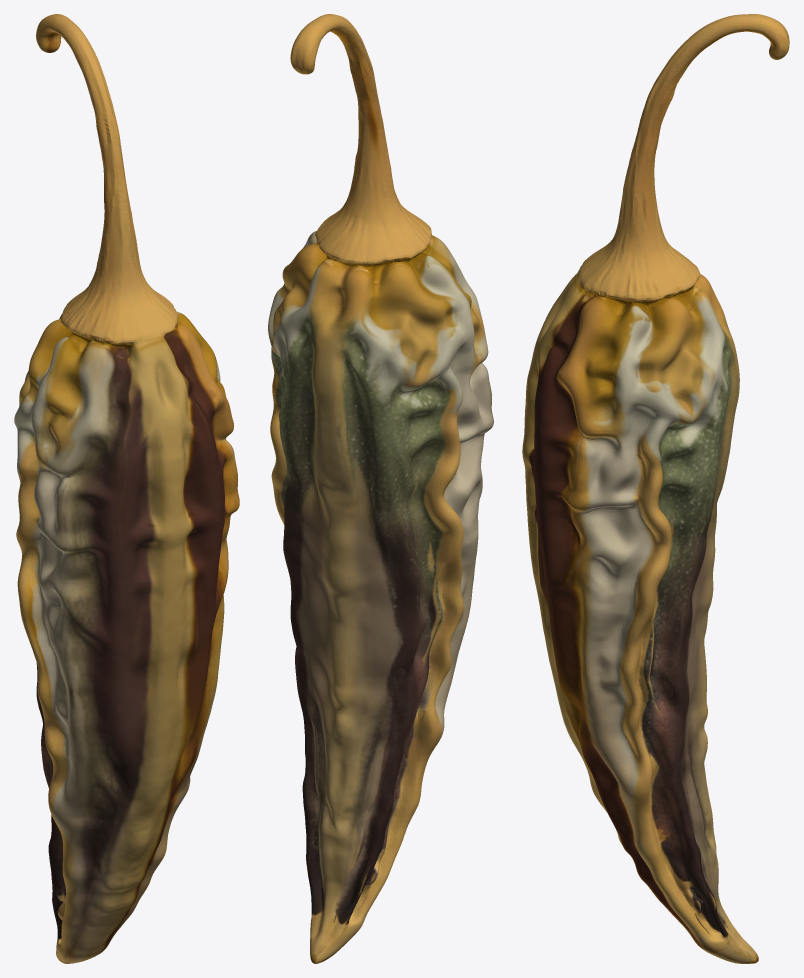
Rendered from kholaChilli.glb.
The picture shows the model from 3 angles, left to right: view 1: azimuth 30°, elevation 25°; view 2: azimuth 150°, elevation 25°; view 3: azimuth 270°, elevation 25°; orthographic projection.
Parts seen in each view (by area): view 1: tripo_node_7e52532c-ca3f-4067-82e3-b542de38cf22; view 2: tripo_node_7e52532c-ca3f-4067-82e3-b542de38cf22; view 3: tripo_node_7e52532c-ca3f-4067-82e3-b542de38cf22.
Boxes of the visible parts, left/top/right/bottom form: tripo_node_7e52532c-ca3f-4067-82e3-b542de38cf22: left=14, top=14, right=239, bottom=963; tripo_node_7e52532c-ca3f-4067-82e3-b542de38cf22: left=268, top=14, right=493, bottom=963; tripo_node_7e52532c-ca3f-4067-82e3-b542de38cf22: left=522, top=14, right=789, bottom=963.
Size of the model in its own units: 0.2115 by 1 by 0.2555.
Materials: 1 (1 with a texture image).
